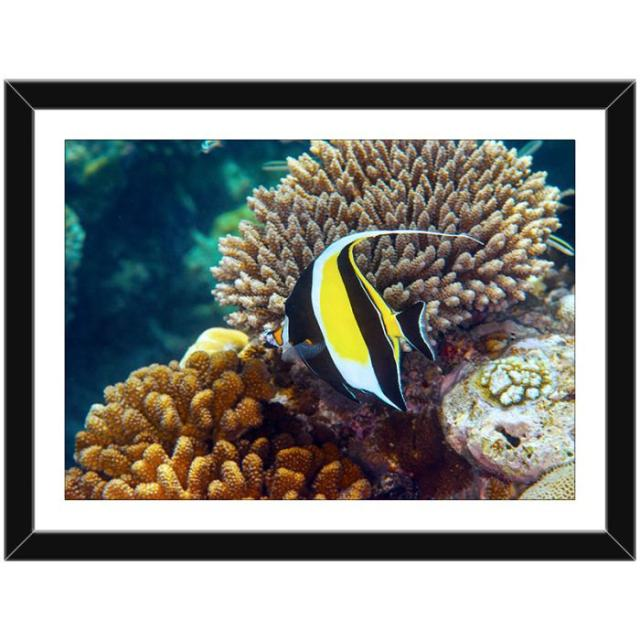MorishIdol: (260, 226, 484, 415)
